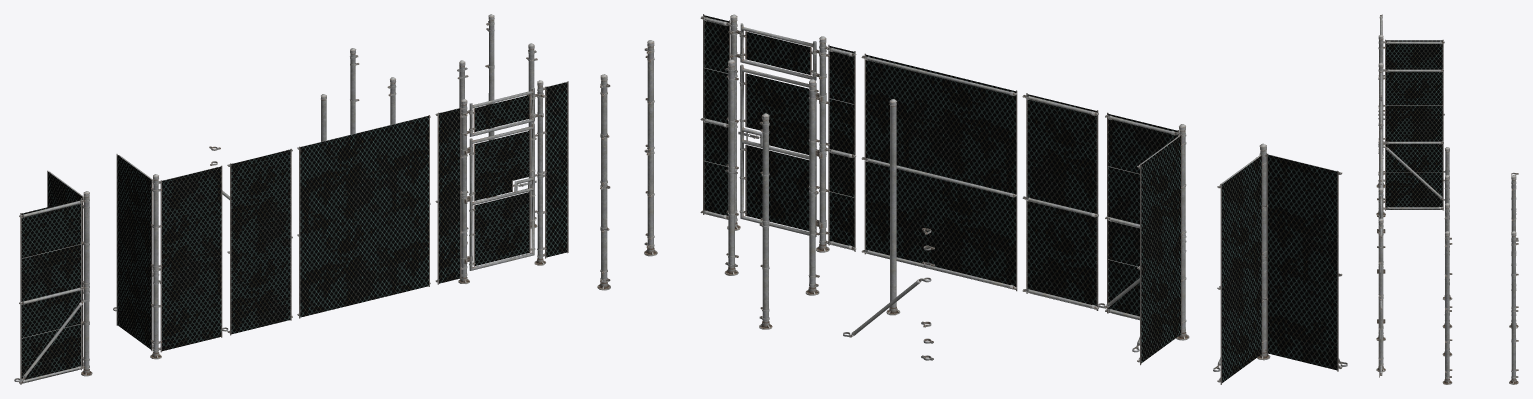
The model's file is modular_chainlink_fence.glb.
The picture shows the model from 3 angles, left to right: view 1: azimuth 30°, elevation 25°; view 2: azimuth 150°, elevation 25°; view 3: azimuth 270°, elevation 25°; orthographic projection. The views are drawn at different scales.
Parts seen in each view (by area): view 1: modular_chainlink_fence_double, modular_chainlink_fence_corner_outer, modular_chainlink_fence_door_frame, modular_chainlink_fence_corner_inner, modular_chainlink_fence, modular_chainlink_fence_door_gate, modular_chainlink_fence_start_01_corner_01, modular_chainlink_fence_start_01_corner_02, modular_chainlink_fence_end_02; view 2: modular_chainlink_fence_double, modular_chainlink_fence_corner_inner, modular_chainlink_fence_corner_outer, modular_chainlink_fence_door_frame, modular_chainlink_fence, modular_chainlink_fence_door_gate, modular_chainlink_post_middle, modular_chainlink_fence_end_01, modular_chainlink_fence_start_01_corner_01, modular_chainlink_fence_end_02, modular_chainlink_fence_start_01_corner_02, modular_chainlink_fence_post; view 3: modular_chainlink_fence_corner_outer, modular_chainlink_fence_corner_inner, modular_chainlink_fence_door_frame, modular_chainlink_fence_start_01_corner_02, modular_chainlink_fence_start_01_corner_01, modular_chainlink_fence_end_02, modular_chainlink_fence_double, modular_chainlink_post_middle, modular_chainlink_fence_end_01, modular_chainlink_fence_post.
Boxes of the visible parts, box(x1,y1,x2,y2) form: modular_chainlink_fence_double: box(297, 115, 430, 318); modular_chainlink_fence_corner_outer: box(113, 154, 228, 359); modular_chainlink_fence_door_frame: box(435, 80, 568, 284); modular_chainlink_fence_corner_inner: box(14, 170, 92, 384); modular_chainlink_fence: box(227, 148, 292, 335); modular_chainlink_fence_door_gate: box(469, 123, 535, 270); modular_chainlink_fence_start_01_corner_01: box(526, 43, 537, 228); modular_chainlink_fence_start_01_corner_02: box(485, 14, 496, 198); modular_chainlink_fence_end_02: box(350, 48, 359, 134); modular_chainlink_fence_double: box(861, 53, 1017, 291); modular_chainlink_fence_corner_inner: box(1213, 143, 1347, 384); modular_chainlink_fence_corner_outer: box(1098, 112, 1189, 365); modular_chainlink_fence_door_frame: box(700, 14, 856, 252); modular_chainlink_fence: box(1022, 93, 1098, 310); modular_chainlink_fence_door_gate: box(739, 64, 816, 236); modular_chainlink_post_middle: box(724, 59, 738, 275); modular_chainlink_fence_end_01: box(805, 79, 819, 295); modular_chainlink_fence_start_01_corner_01: box(644, 40, 657, 256); modular_chainlink_fence_end_02: box(759, 113, 772, 329); modular_chainlink_fence_start_01_corner_02: box(597, 74, 610, 290); modular_chainlink_fence_post: box(886, 99, 900, 315); modular_chainlink_fence_corner_outer: box(1376, 62, 1449, 215); modular_chainlink_fence_corner_inner: box(1376, 14, 1449, 188); modular_chainlink_fence_door_frame: box(1376, 182, 1385, 377); modular_chainlink_fence_start_01_corner_02: box(1509, 231, 1518, 384); modular_chainlink_fence_start_01_corner_01: box(1442, 231, 1452, 384); modular_chainlink_fence_end_02: box(1509, 175, 1518, 328); modular_chainlink_fence_double: box(1379, 126, 1382, 182); modular_chainlink_post_middle: box(1442, 203, 1452, 356); modular_chainlink_fence_end_01: box(1442, 175, 1452, 328); modular_chainlink_fence_post: box(1443, 147, 1452, 300).
Bounding box in the file's own units: 8.11 × 2.52 × 2.15.
Materials: 2 (2 with a texture image).
